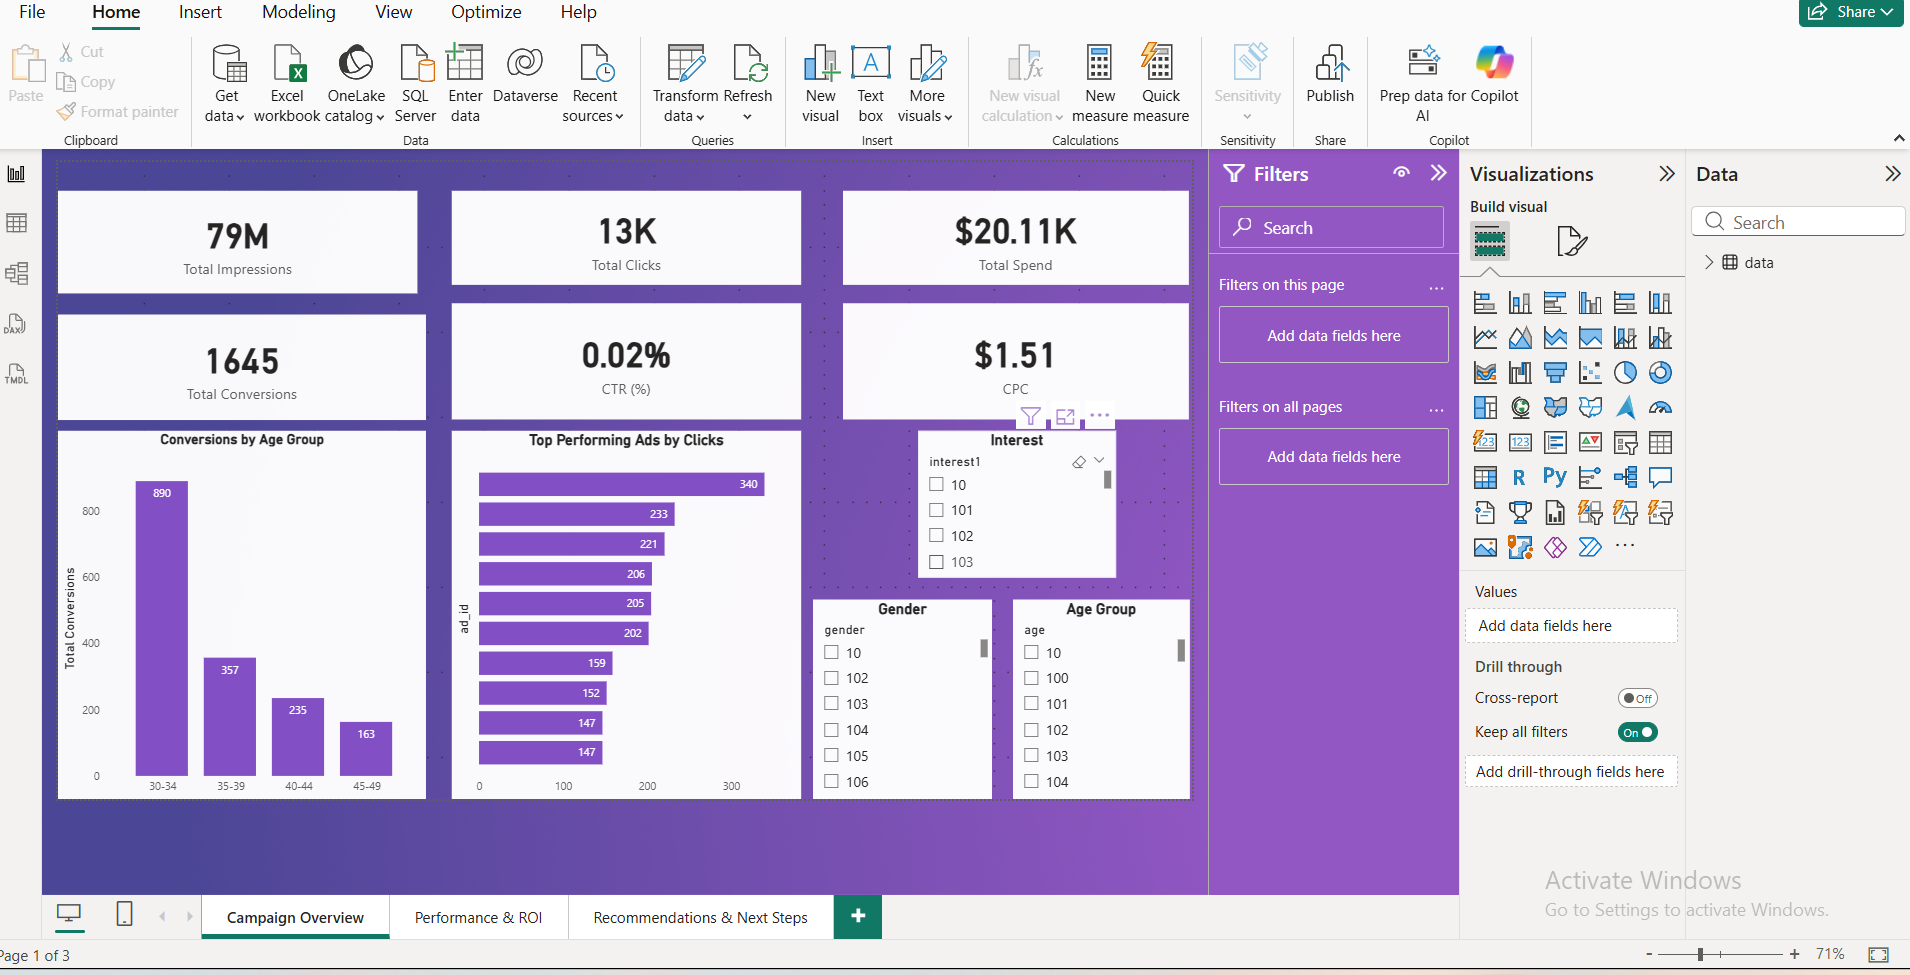

What the dashboard file says about the page in this screenshot:
{"tool":"powerbi","page":{"name":"Campaign Overview","canvas":[1280,720],"ordinal":0},"visuals":[{"type":"card","fields":{"Values":["data.Total Impressions"]},"box":[0,32.3,403.3,115.2],"z":0},{"type":"card","fields":{"Values":["data.Total Clicks"]},"box":[441.3,32.3,392.1,105.4],"z":1000},{"type":"card","fields":{"Values":["data.Total Spend"]},"box":[881.2,32.3,387.9,105.4],"z":2000},{"type":"card","fields":{"Values":["data.Total Conversions"]},"box":[0,171.5,413.2,118.1],"z":3000},{"type":"card","fields":{"Values":["data.CTR (%)"]},"box":[441.3,158.8,392.1,130.7],"z":4000},{"type":"card","fields":{"Values":["data.CPC"]},"box":[881.2,158.8,387.9,130.7],"z":5000},{"type":"clusteredBarChart","title":"Top Performing Ads by Clicks","fields":{"Category":["data.ad_id"],"Y":["data.Total Clicks"]},"box":[441.3,302.2,392.1,417.4],"z":6000},{"type":"clusteredColumnChart","title":"Conversions by Age Group","fields":{"Category":["data.age"],"Y":["data.Total Conversions"]},"box":[0,302.2,413.2,417.4],"z":7000},{"type":"slicer","title":"Age Group","fields":{"Values":["data.age"]},"box":[1070.9,490.5,198.2,229.1],"z":8000},{"type":"slicer","title":"Gender","fields":{"Values":["data.gender"]},"box":[847.4,490.5,201,229.1],"z":9000},{"type":"slicer","title":"Interest","fields":{"Values":["data.interest1"]},"box":[964.1,302.2,222,164.4],"z":10000}]}

Visuals, with their boxes on the page's 1280x720 design canvas (x1, y1, x2, y2). These are canvas units, not pixel positions in the 1910x975 screenshot, which may show the page scaled, cropped or inside an application window:
card - data.Total Impressions: pyautogui.locateOnScreen(0, 32, 403, 148)
card - data.Total Clicks: pyautogui.locateOnScreen(441, 32, 833, 138)
card - data.Total Spend: pyautogui.locateOnScreen(881, 32, 1269, 138)
card - data.Total Conversions: pyautogui.locateOnScreen(0, 172, 413, 290)
card - data.CTR (%): pyautogui.locateOnScreen(441, 159, 833, 290)
card - data.CPC: pyautogui.locateOnScreen(881, 159, 1269, 290)
"Top Performing Ads by Clicks" clusteredBarChart: pyautogui.locateOnScreen(441, 302, 833, 720)
"Conversions by Age Group" clusteredColumnChart: pyautogui.locateOnScreen(0, 302, 413, 720)
"Age Group" slicer: pyautogui.locateOnScreen(1071, 490, 1269, 720)
"Gender" slicer: pyautogui.locateOnScreen(847, 490, 1048, 720)
"Interest" slicer: pyautogui.locateOnScreen(964, 302, 1186, 467)
